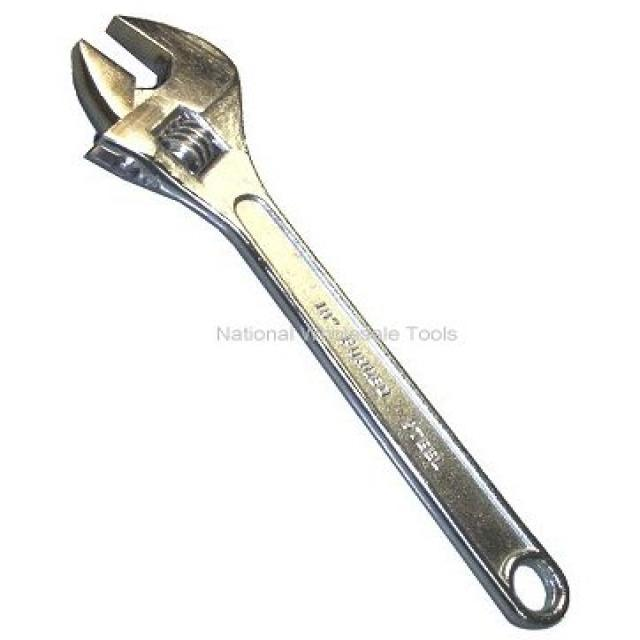wrench: (61, 6, 576, 636)
